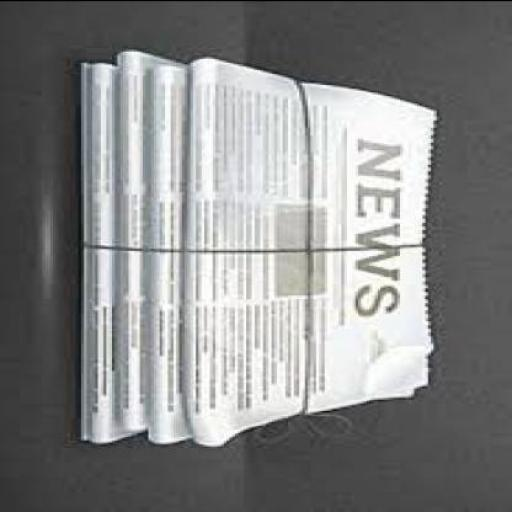paper: (184, 54, 442, 443), (112, 47, 185, 432), (142, 60, 184, 438), (84, 58, 123, 439)
